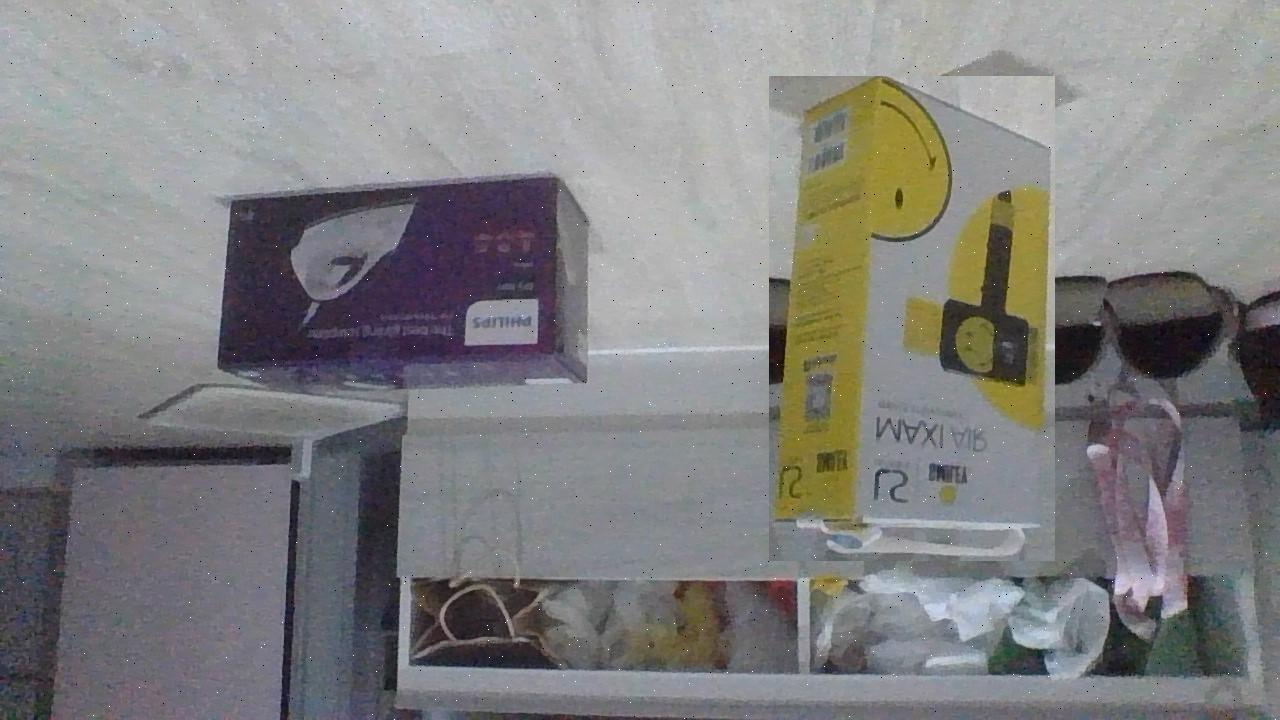Dryer: (769, 76, 1055, 561)
IRON: (214, 171, 595, 398)
